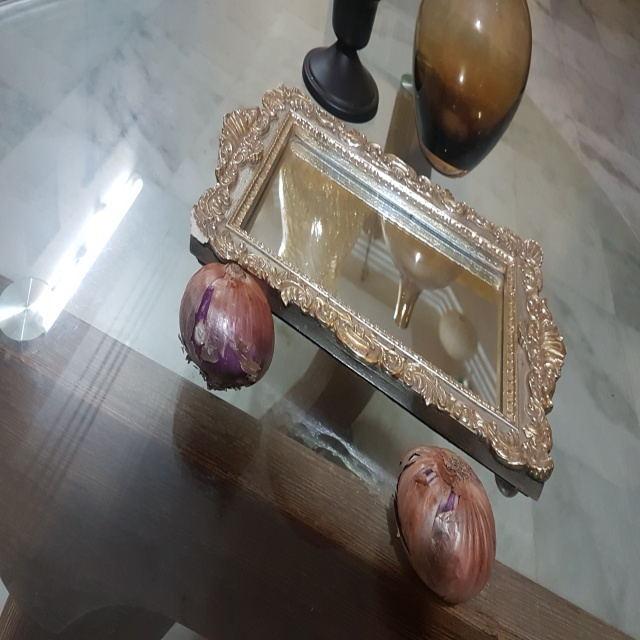onion: (383, 445, 513, 608), (177, 256, 285, 397)
